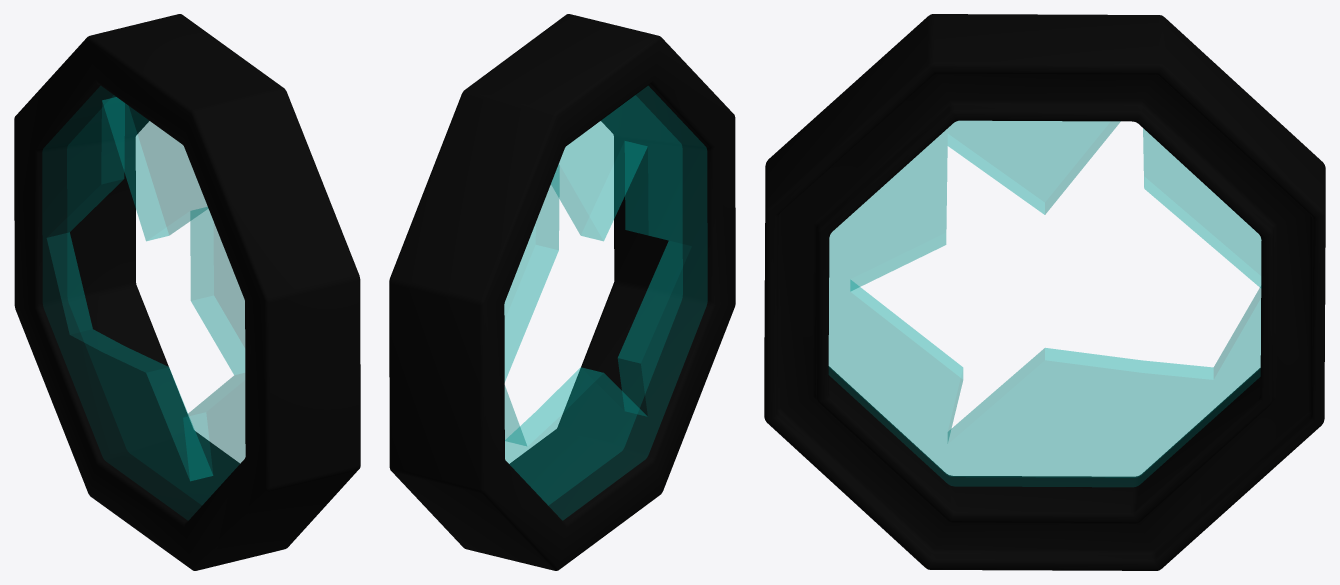
Rendered from window.obj.
3 renders of one model, left to right at view 1: azimuth 30°, elevation 25°; view 2: azimuth 150°, elevation 25°; view 3: azimuth 270°, elevation 25°, orthographic. The views are drawn at different scales.
Parts seen in each view (by area): view 1: Cylinder, Cylinder.001; view 2: Cylinder, Cylinder.001; view 3: Cylinder, Cylinder.001.
Boxes of the visible parts, x1,y1,x2,y2 form: Cylinder: (14, 14, 360, 570); Cylinder.001: (42, 86, 245, 519); Cylinder: (389, 14, 735, 570); Cylinder.001: (504, 86, 707, 519); Cylinder: (764, 14, 1325, 570); Cylinder.001: (829, 121, 1261, 486).
Bounding box in the file's own units: 0.623 × 2.88 × 2.88.
